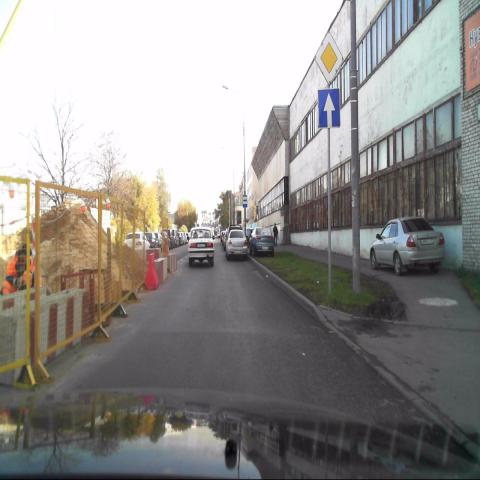2_1: (314, 30, 344, 85)
5_5: (317, 87, 341, 128)
